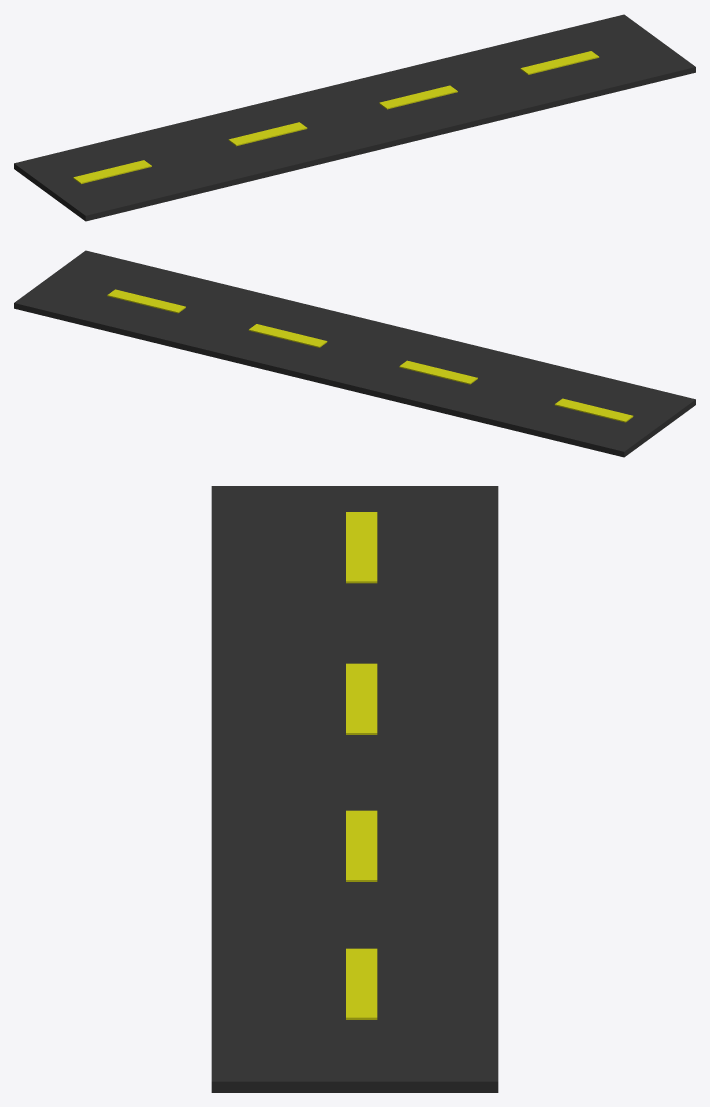
The model's file is road.fbx.
3 renders of one model, top to bottom at view 1: azimuth 30°, elevation 25°; view 2: azimuth 150°, elevation 25°; view 3: azimuth 270°, elevation 25°, orthographic. The views are drawn at different scales.
Visible parts, largest first — view 1: box005; view 2: box005; view 3: box005.
Boxes of the visible parts, bbox=[...] form: box005: bbox=[14, 14, 695, 221]; box005: bbox=[14, 250, 695, 457]; box005: bbox=[211, 486, 498, 1092].
Bounding box in the file's own units: 478 × 5.89 × 97.31.
